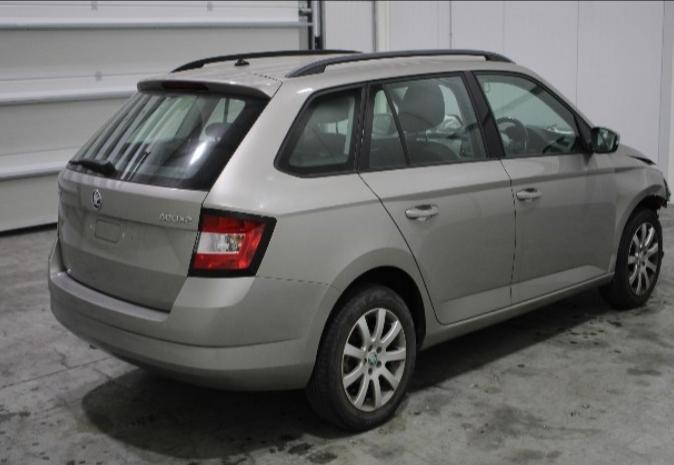Broken part: (627, 155, 673, 223)
Dent: (614, 168, 649, 192), (615, 195, 629, 230), (644, 184, 665, 198), (609, 249, 616, 266)
